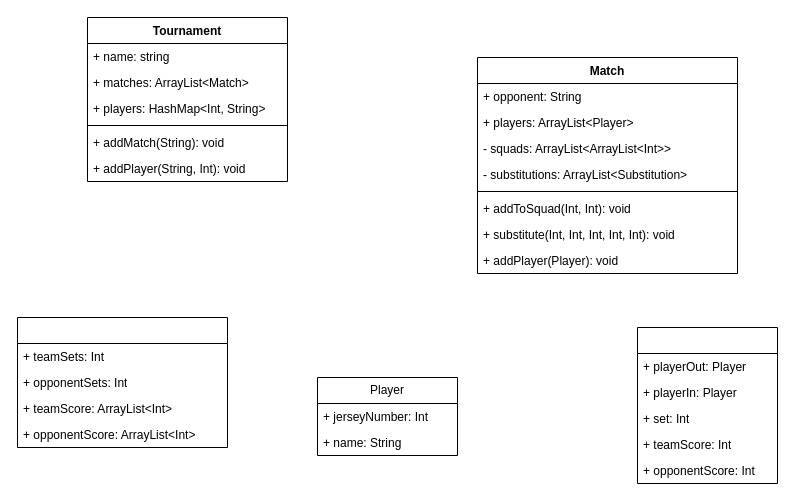
The diagram is 795 pixels wide and 504 high, and some of its shapes have lost their labels. Each missing label, with the box of its shape:
MatchScore: (16, 316, 228, 448)
Substitution: (636, 326, 778, 484)
